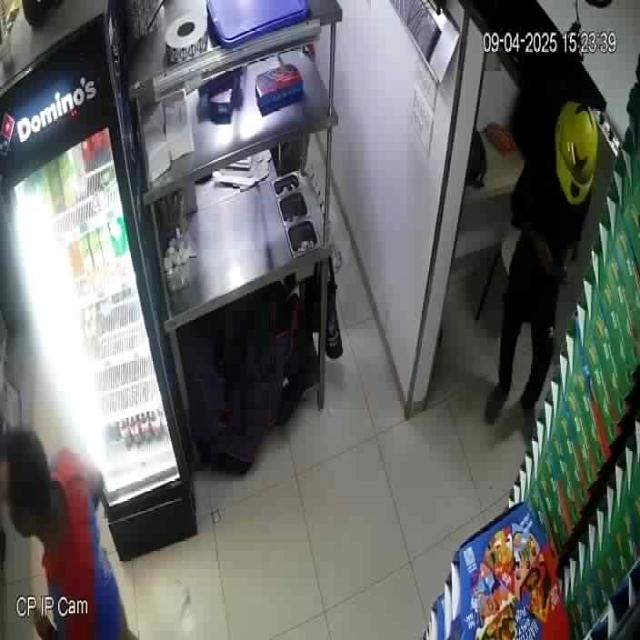helmet: (551, 101, 597, 206)
no_helmet: (4, 424, 53, 541)
